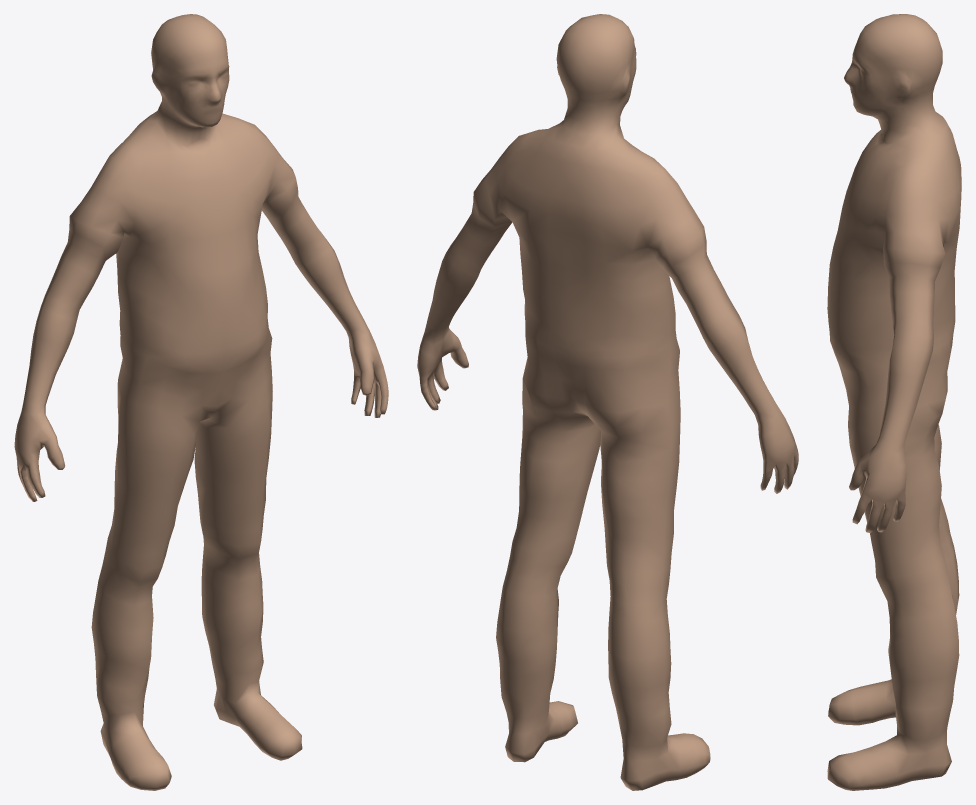
File: mandarinelumno.fbx
3 renders of one model, left to right at view 1: azimuth 30°, elevation 25°; view 2: azimuth 150°, elevation 25°; view 3: azimuth 270°, elevation 25°, orthographic.
Visible parts, largest first — view 1: humanBody; view 2: humanBody; view 3: humanBody.
Boxes of the visible parts, x1,y1,x2,y2 form: humanBody: (14,14,388,790); humanBody: (417,14,798,790); humanBody: (827,14,961,790).
Size of the model in its own units: 94.57 by 183 by 30.29.
